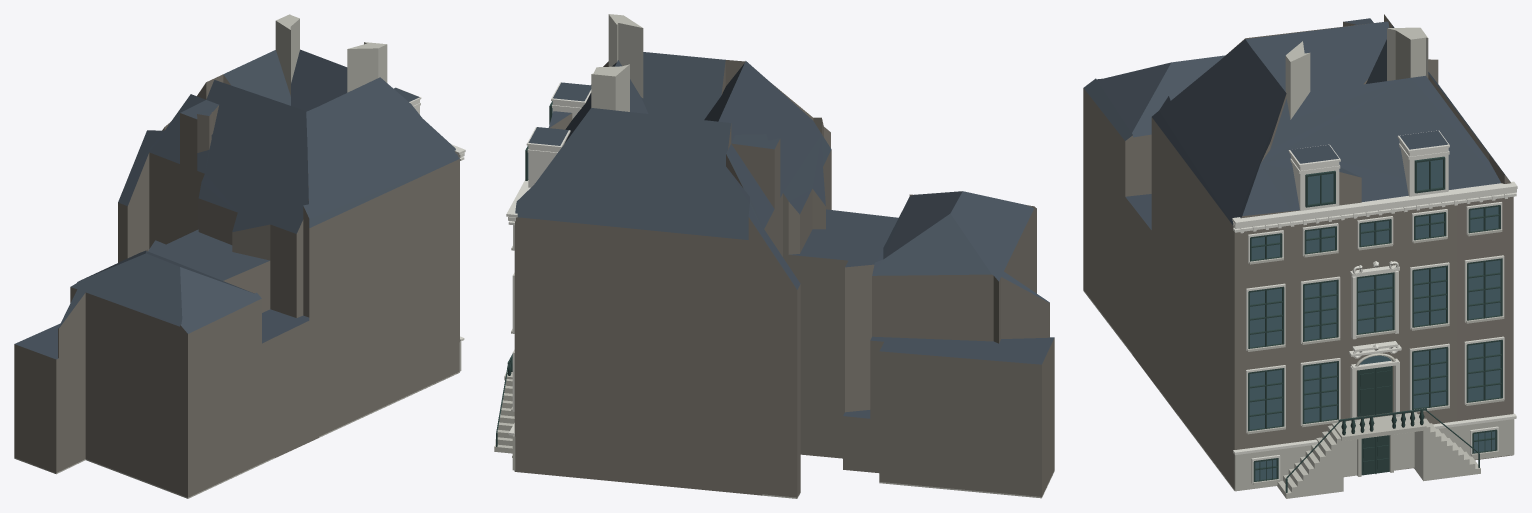
The model's file is collectie-six.glb.
3 views of the same model, side by side, from view 1: azimuth 30°, elevation 25°; view 2: azimuth 150°, elevation 25°; view 3: azimuth 270°, elevation 25° (orthographic). The views are drawn at different scales.
Visible parts, largest first — view 1: collectie-six; view 2: collectie-six; view 3: collectie-six.
Boxes of the visible parts, left/top/right/bottom form: collectie-six: left=14, top=14, right=465, bottom=498; collectie-six: left=494, top=14, right=1054, bottom=498; collectie-six: left=1083, top=14, right=1517, bottom=498.
Bounding box in the file's own units: 31.51 × 22.44 × 22.11.
